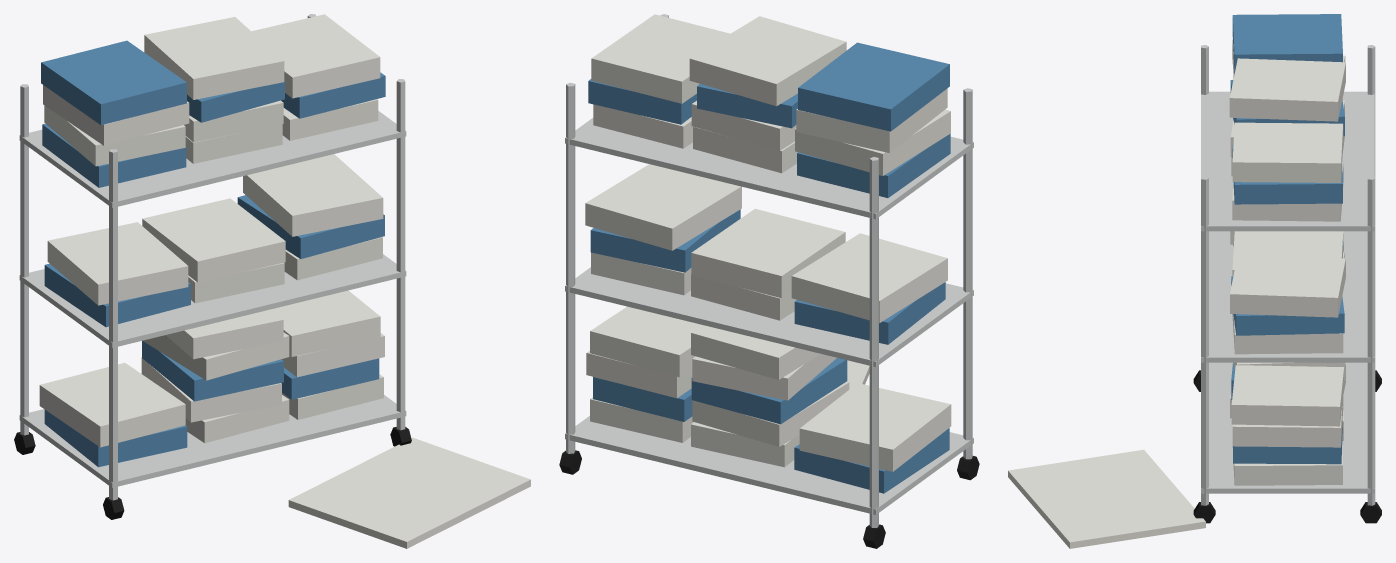
Rendered from towel_cart.glb.
3 views of the same model, side by side, from view 1: azimuth 30°, elevation 25°; view 2: azimuth 150°, elevation 25°; view 3: azimuth 270°, elevation 25° (orthographic). The views are drawn at different scales.
Visible parts, largest first — view 1: TowelCart; view 2: TowelCart; view 3: TowelCart.
Part boxes in pixels (bbox=[...]): TowelCart: bbox=[14, 14, 530, 548]; TowelCart: bbox=[559, 14, 979, 548]; TowelCart: bbox=[1008, 14, 1381, 548].
Size of the model in its own units: 1.05 by 1.15 by 1.03.
